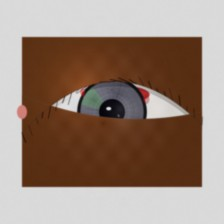hemorrhage_spot: (69, 57, 162, 132)
